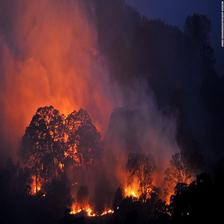fire: (24, 96, 105, 170), (119, 160, 194, 205), (57, 191, 118, 220), (19, 175, 49, 203)
